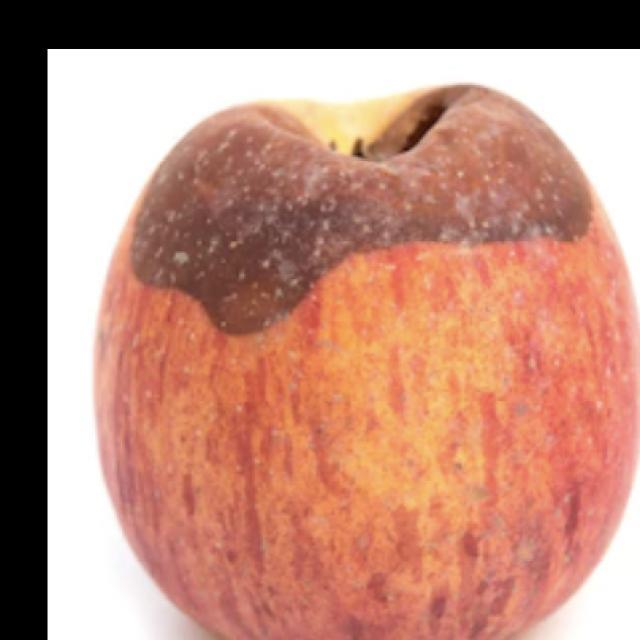Rotten: (111, 100, 640, 640)
